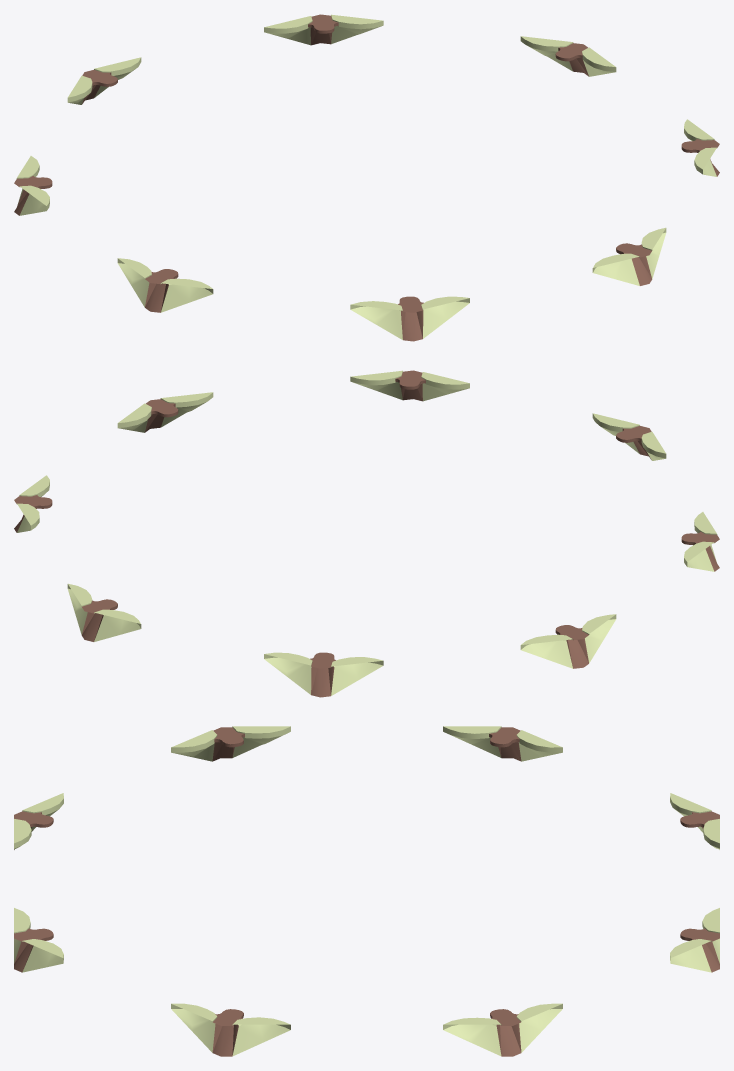
The model's file is Dragonfly_Gears_OuterWalls_Platforms.fbx.
3 views of the same model, one above another, from view 1: azimuth 30°, elevation 25°; view 2: azimuth 150°, elevation 25°; view 3: azimuth 270°, elevation 25° (orthographic). The views are drawn at different scales.
Parts seen in each view (by area): view 1: Outer_Walls_Platforms; view 2: Outer_Walls_Platforms; view 3: Outer_Walls_Platforms.
Boxes of the visible parts, x1,y1,x2,y2 form: Outer_Walls_Platforms: [14, 14, 719, 341]; Outer_Walls_Platforms: [14, 370, 719, 697]; Outer_Walls_Platforms: [14, 726, 719, 1056].
Size of the model in its own units: 121 by 6 by 121.
